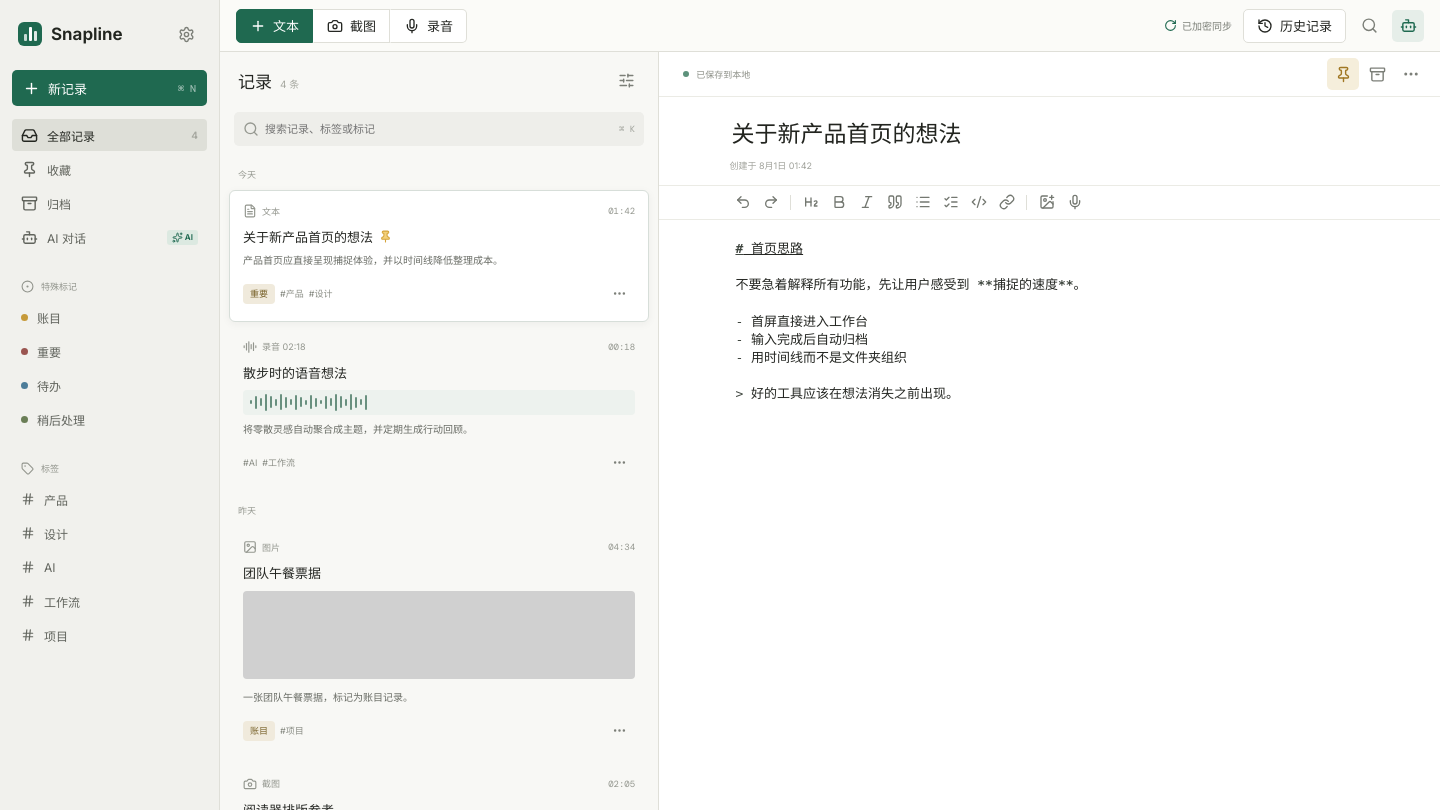
Test case: desktop workspace › opens searchable history and jumps to the selected record
This screenshot has width=1440, height=810.
expect the heading "关于新产品首页的想法" is shown: met, box [243,227,373,246]
Click the button "历史记录": point(1294, 26) [1243,8,1346,42]
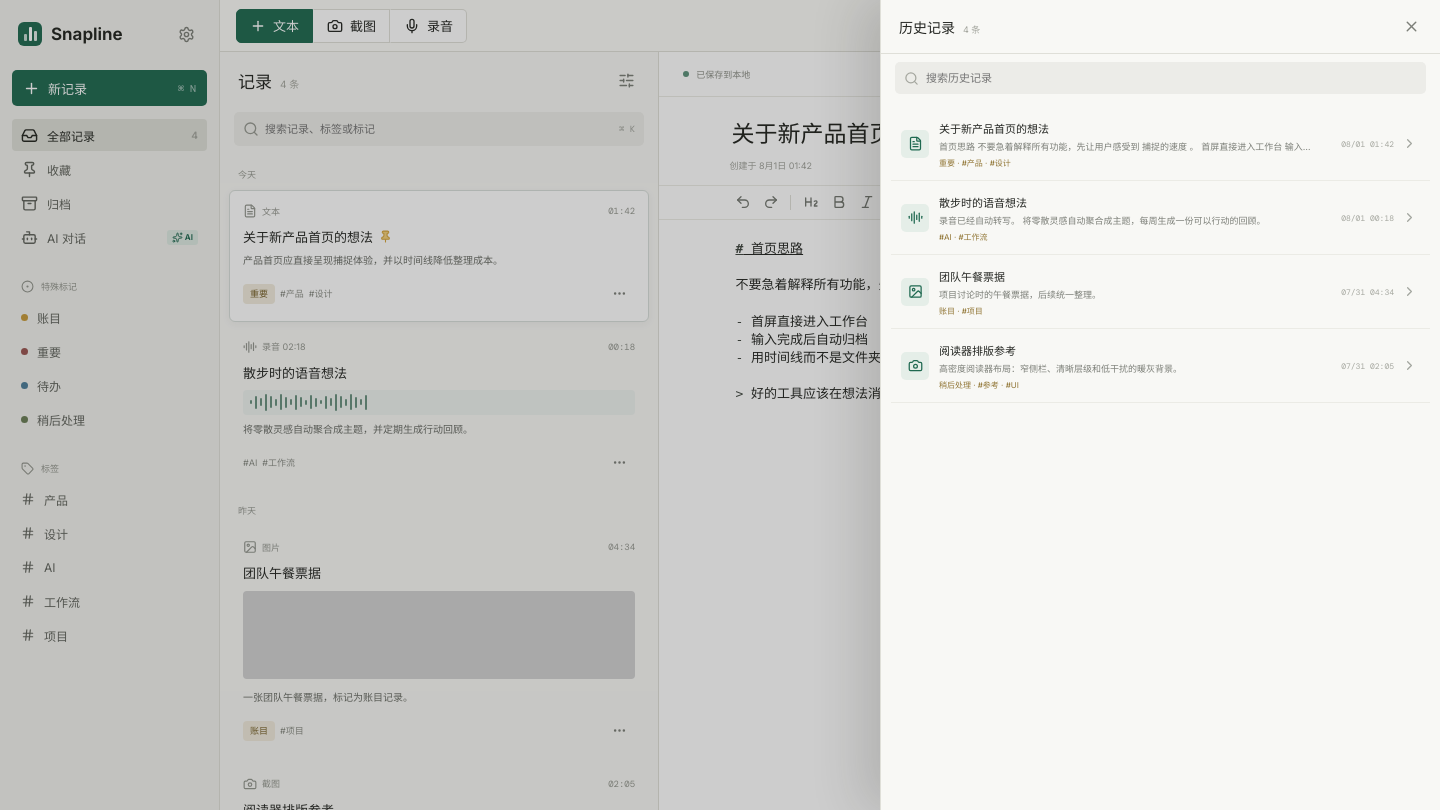
expect the dialog "历史记录" is shown: met, box [880,0,1439,809]
In the field with placeholder "搜索历史记录": point(1170, 78) [924,70,1417,86], type "语音"
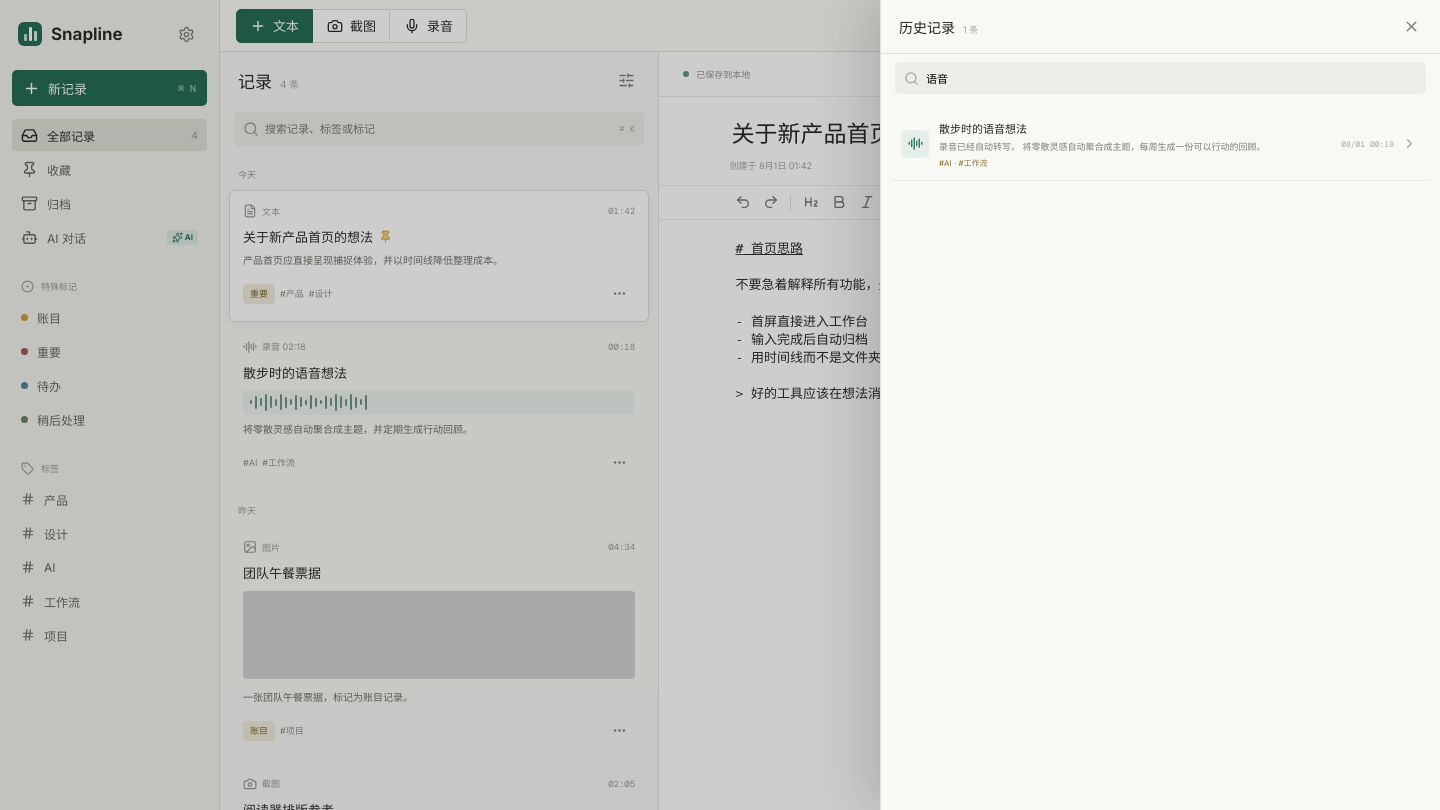
Click the button "散步时的语音想法": point(1160, 144) [891,107,1430,181]
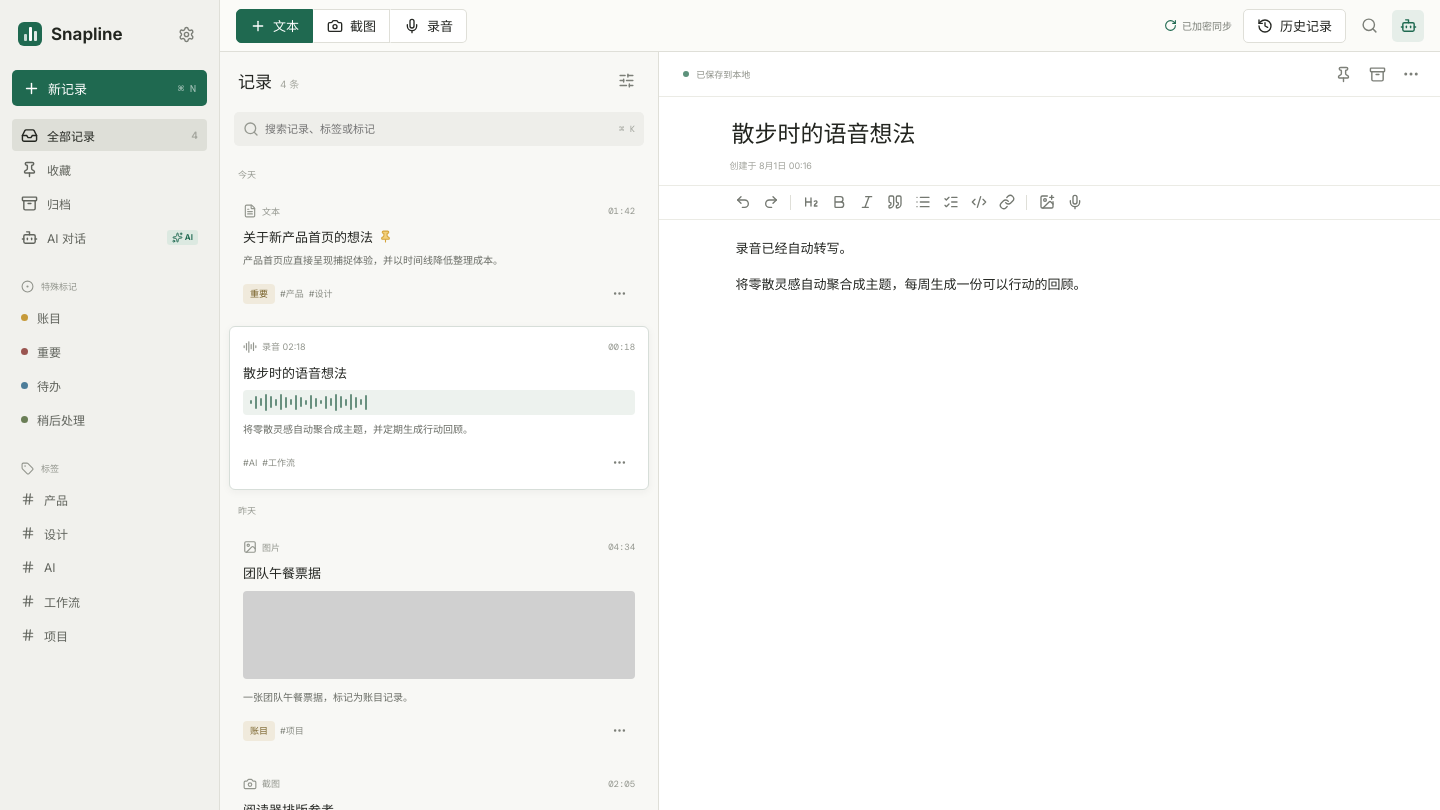
expect the field showing "散步时的语音想法" is shown: met, box [730,119,1370,151]
